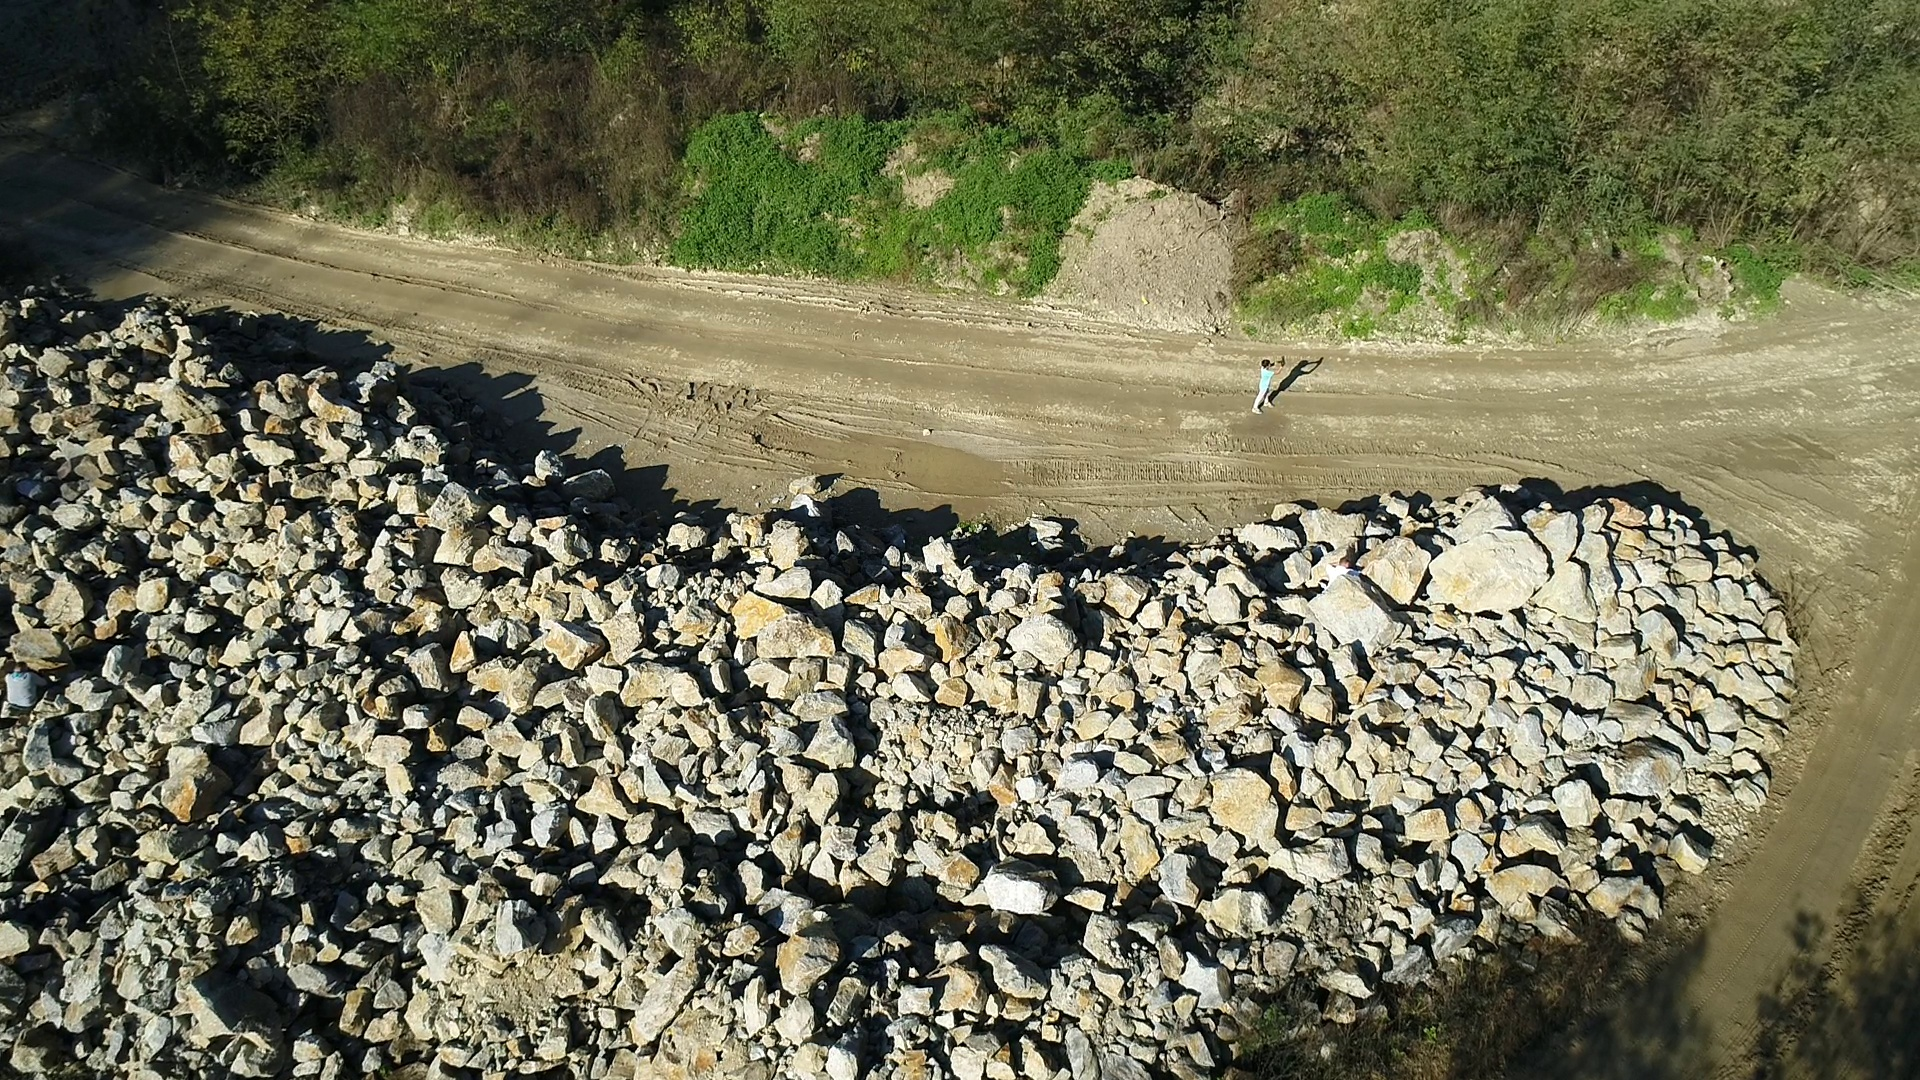not_defined: (1315, 556, 1378, 594)
person: (5, 660, 47, 713), (1251, 354, 1286, 415)
